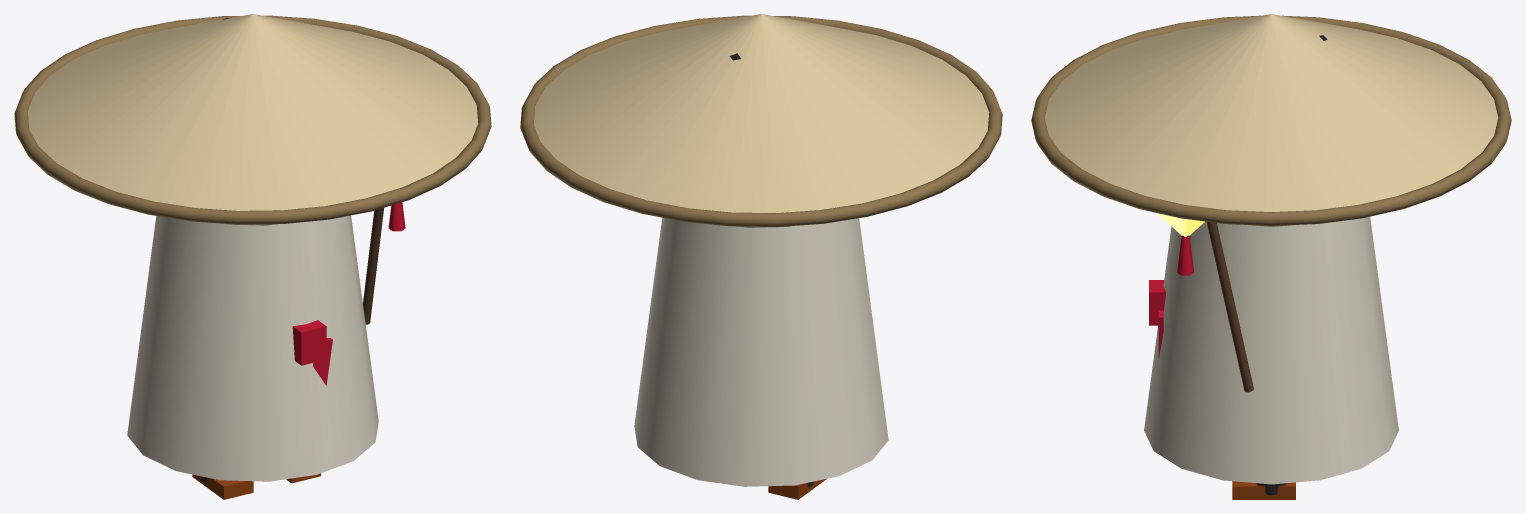
The model's file is May.glb.
The picture shows the model from 3 angles, left to right: view 1: azimuth 30°, elevation 25°; view 2: azimuth 150°, elevation 25°; view 3: azimuth 270°, elevation 25°; orthographic projection.
Parts seen in each view (by area): view 1: May; view 2: May; view 3: May, MiniLantern.
Boxes of the visible parts, <box> form: May: <box>14,14,491,499</box>; May: <box>520,14,1002,499</box>; May: <box>1031,14,1511,499</box>; MiniLantern: <box>1157,213,1204,275</box>.
Size of the model in its own units: 1.96 by 2.08 by 1.96.
